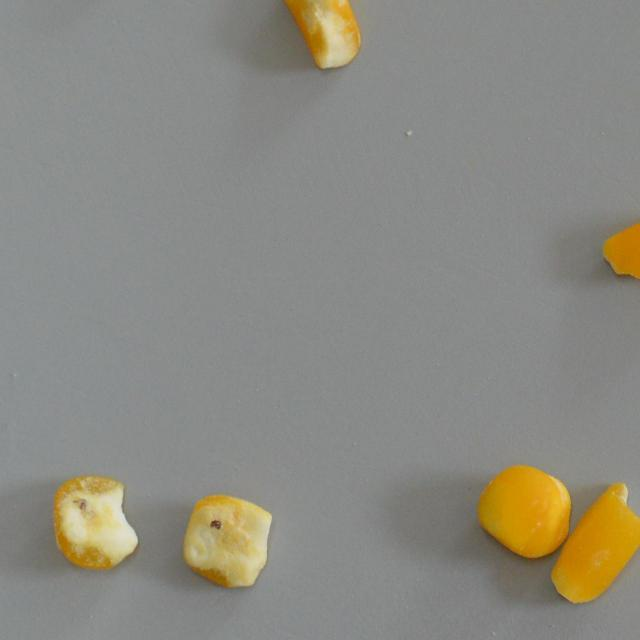dañado: (182, 494, 274, 588), (53, 476, 139, 569)
estandar: (550, 479, 640, 606), (600, 208, 640, 282)
no_canjicado: (478, 464, 570, 558)
punto_negro: (280, 0, 362, 69)
